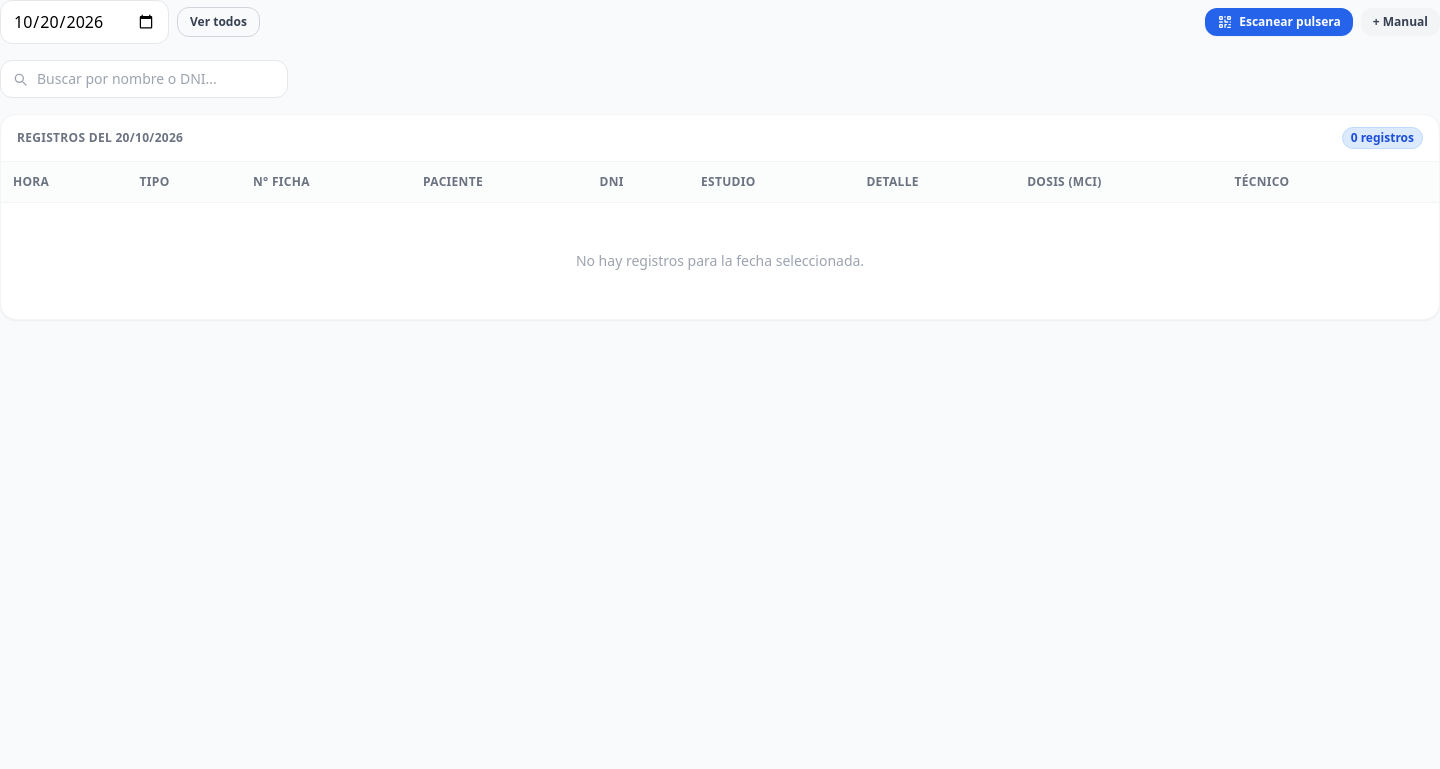
it: TabPacientes -- Gestión I-131, vínculo a Extracción (Dosis ablativa/terapéutica/barrido corporal) › Dosis de barrido corporal muestra 'Extracción relacionada' + 'cápsula sellada'
Click the button "+ Manual" at (1400, 22), box left=1361, top=8, right=1439, bottom=36
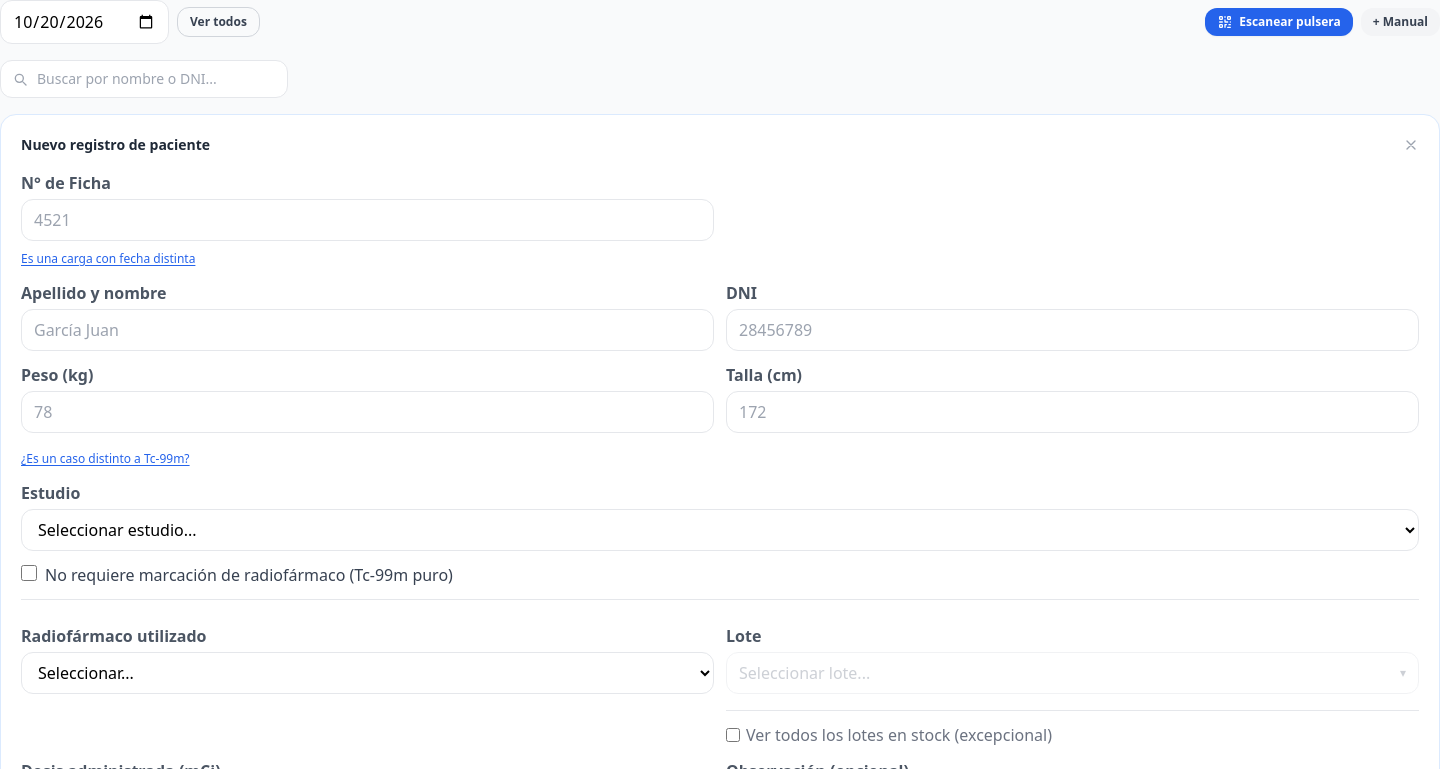
Click the button "¿Es un caso distinto a Tc-99m?" at (105, 459), box left=21, top=451, right=190, bottom=467
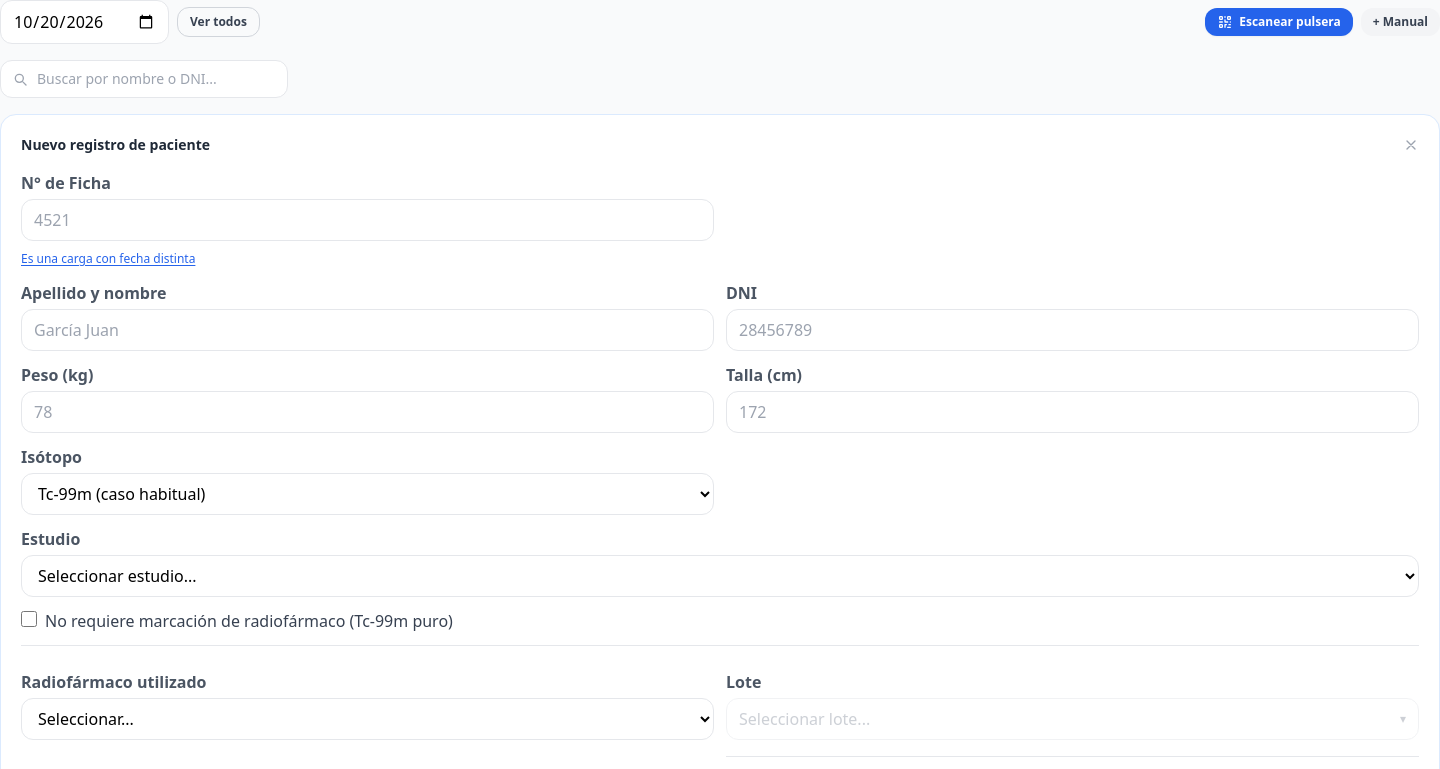
Select "I-131" in the dropdown below "Isótopo" at (368, 494), box left=21, top=473, right=714, bottom=515
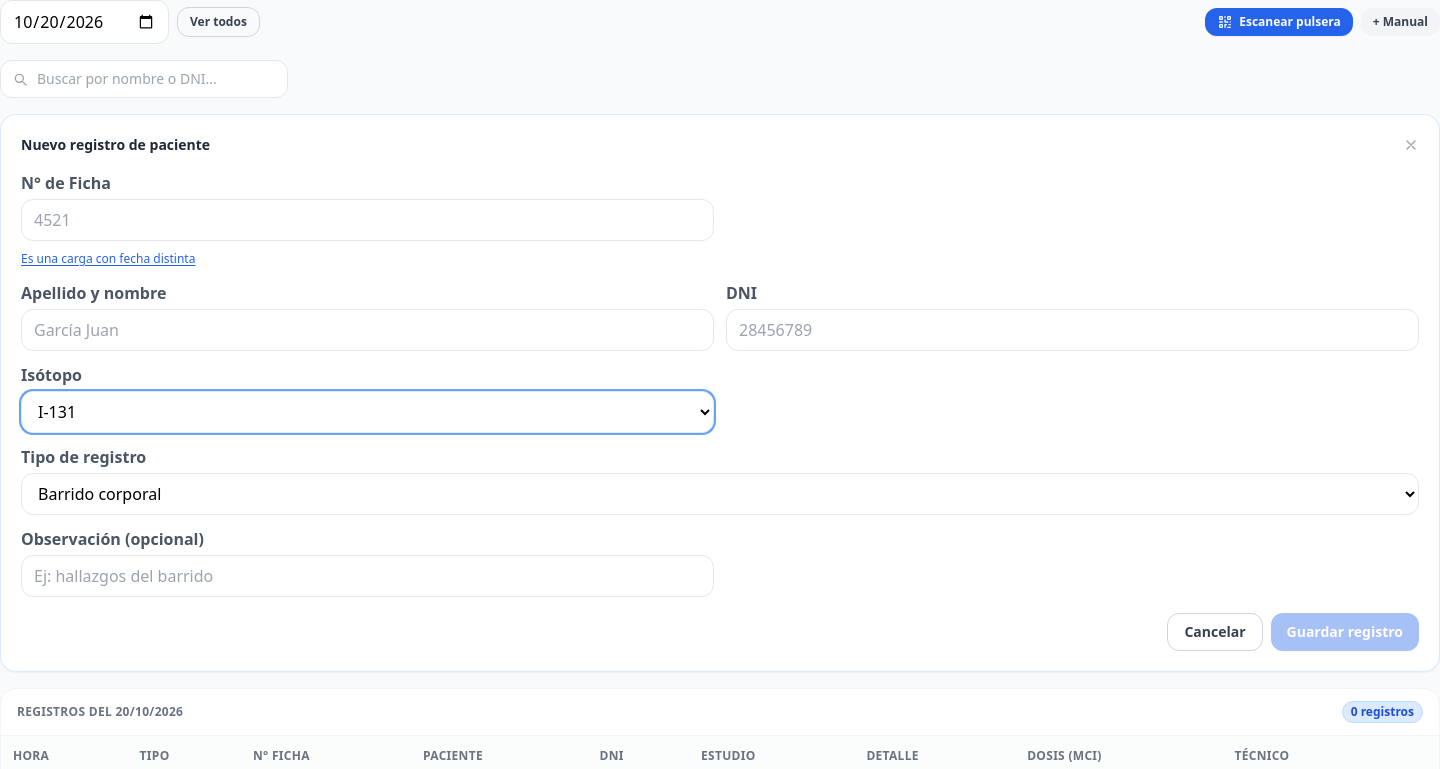
Select "Dosis de barrido corporal" in the dropdown below "Tipo de registro" at (720, 494), box left=21, top=473, right=1419, bottom=515
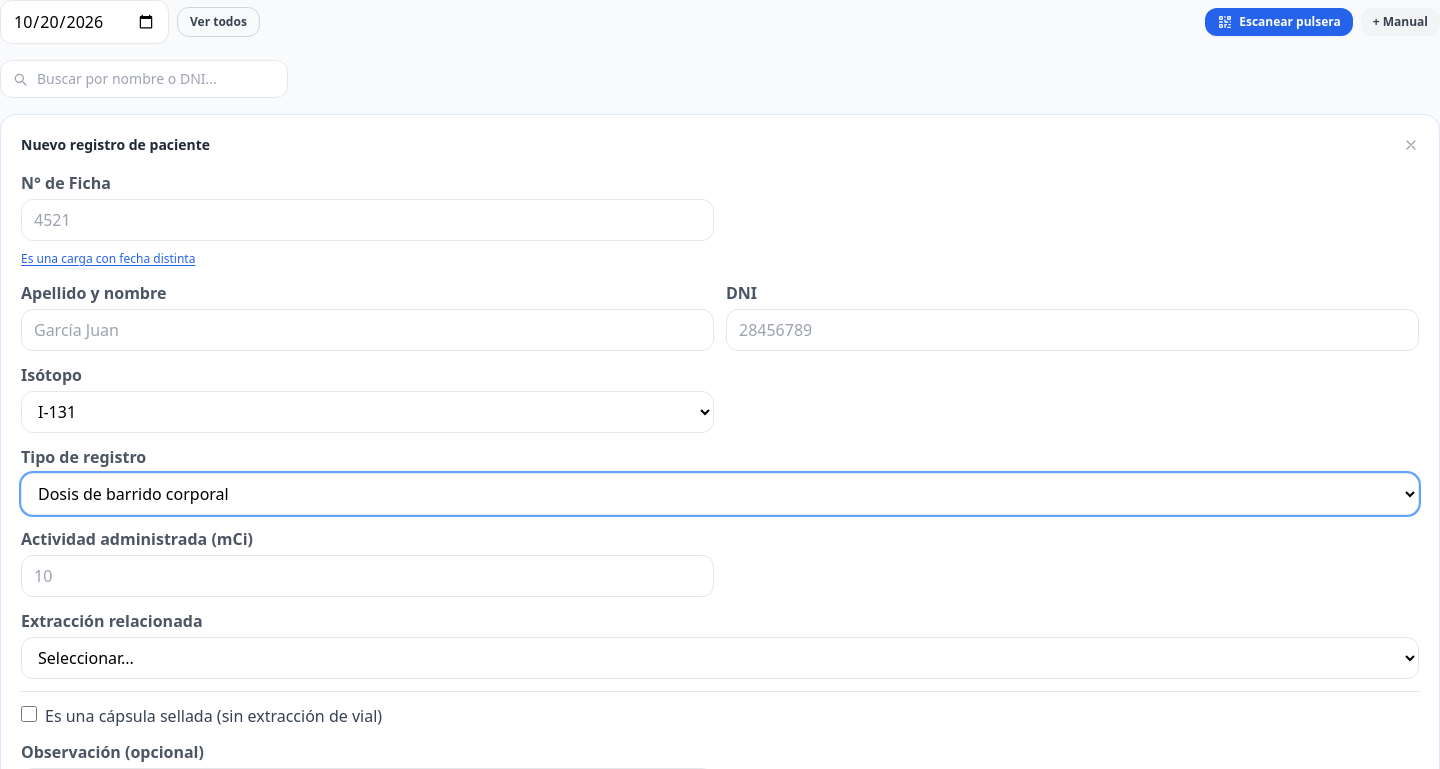
Check: the text "Extracción relacionada" is shown, box left=21, top=610, right=203, bottom=632
Check: the text "Es una cápsula sellada (sin extracción de vial)" is shown, box left=45, top=704, right=382, bottom=728
